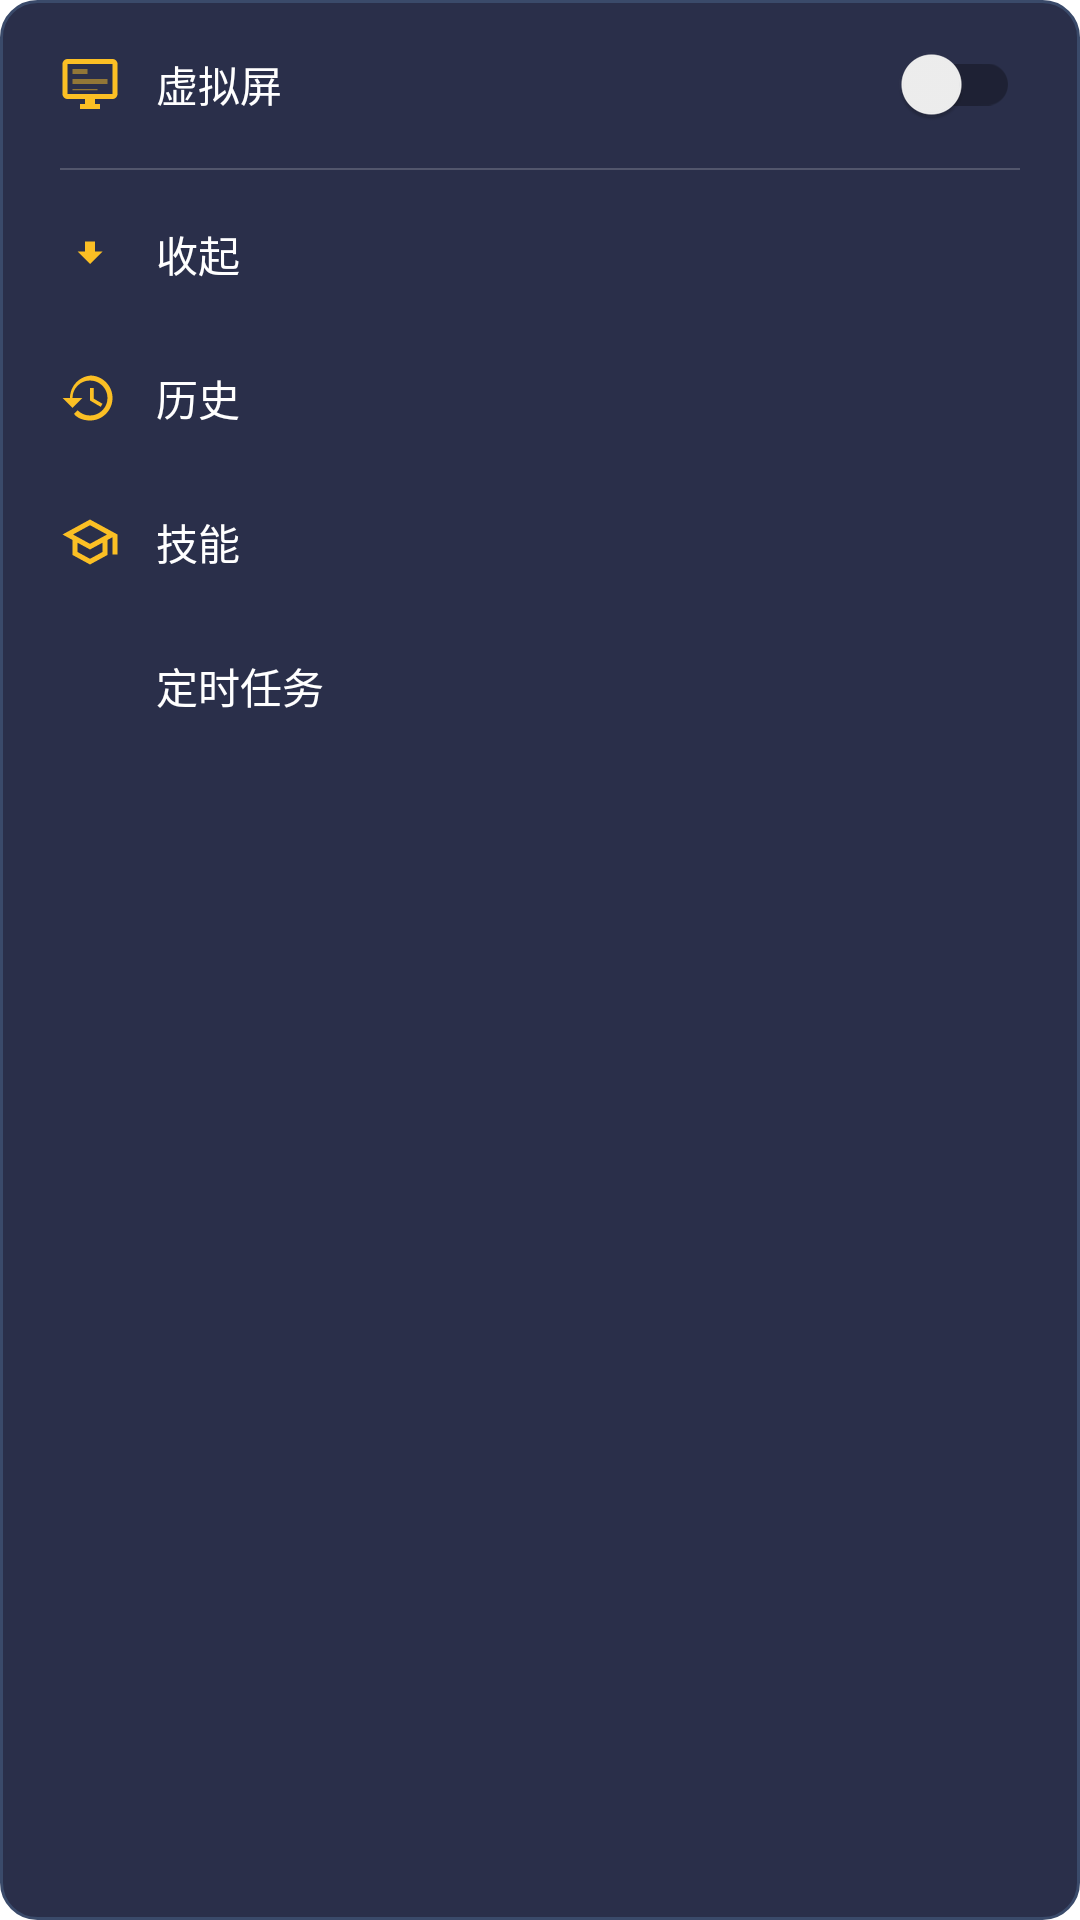

Named icons in this screenshot (1080px×1920px) and their bounding boxes, detection(x1, y1, x2, y2):
history: detection(63, 375, 113, 421)
minimize: detection(78, 241, 103, 264)
skills: detection(62, 519, 118, 565)
virtual display: detection(62, 59, 118, 109)
